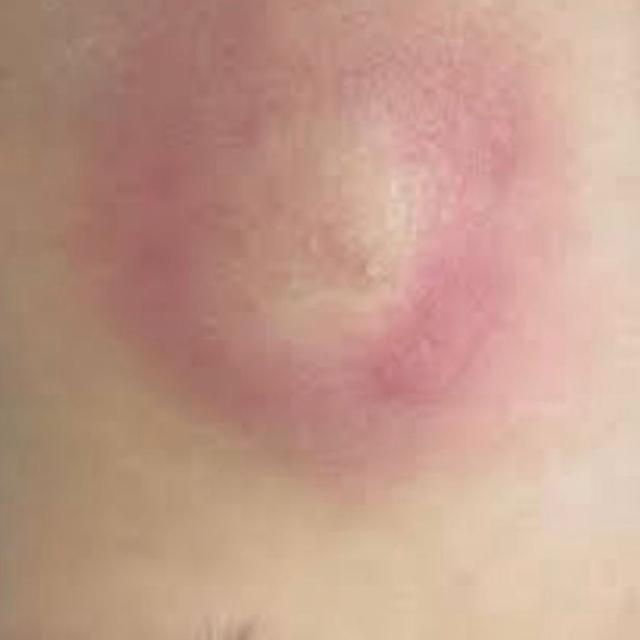nodule: (178, 72, 450, 411)
